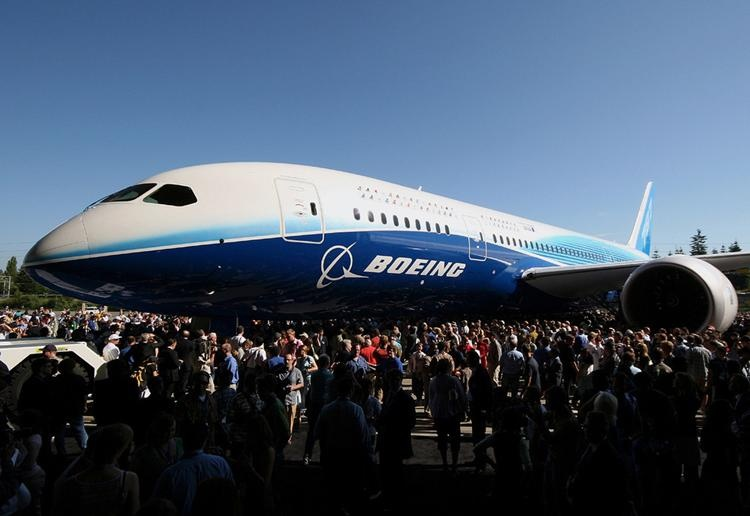airplane: (13, 154, 749, 319)
